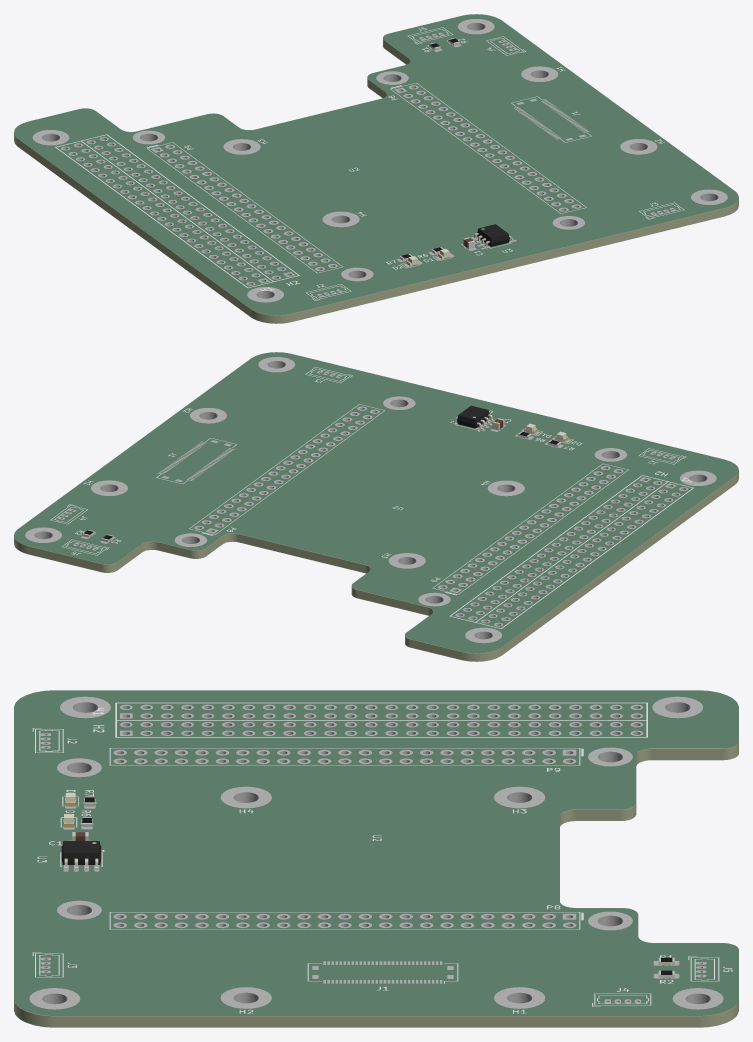
File: board.glb
3 renders of one model, top to bottom at view 1: azimuth 30°, elevation 25°; view 2: azimuth 150°, elevation 25°; view 3: azimuth 270°, elevation 25°, orthographic. The views are drawn at different scales.
Visible parts, largest first — view 1: =>[0:1:1:12], =>[0:1:1:14], =>[0:1:1:10], =>[0:1:1:11], =>[0:1:1:13], =>[0:1:1:9]; view 2: =>[0:1:1:12], =>[0:1:1:14], =>[0:1:1:10], =>[0:1:1:11], =>[0:1:1:13], =>[0:1:1:9]; view 3: =>[0:1:1:12], =>[0:1:1:14], =>[0:1:1:10], =>[0:1:1:11], =>[0:1:1:9], =>[0:1:1:13].
Boxes of the visible parts, x1,y1,x2,y2 form: =>[0:1:1:12]: (14, 14, 738, 315); =>[0:1:1:14]: (14, 15, 738, 323); =>[0:1:1:10]: (32, 19, 727, 302); =>[0:1:1:11]: (55, 27, 684, 300); =>[0:1:1:13]: (14, 48, 737, 323); =>[0:1:1:9]: (472, 224, 514, 248); =>[0:1:1:12]: (14, 352, 738, 653); =>[0:1:1:14]: (14, 353, 738, 661); =>[0:1:1:10]: (25, 357, 716, 643); =>[0:1:1:11]: (50, 367, 693, 628); =>[0:1:1:13]: (15, 481, 738, 661); =>[0:1:1:9]: (452, 405, 494, 429); =>[0:1:1:12]: (14, 690, 738, 1015); =>[0:1:1:14]: (14, 691, 738, 1027); =>[0:1:1:10]: (29, 696, 723, 1009); =>[0:1:1:11]: (32, 702, 732, 1013); =>[0:1:1:9]: (61, 841, 101, 869); =>[0:1:1:13]: (14, 754, 738, 1027).
Size of the model in its own units: 0.0959 by 0.0034 by 0.0902.
